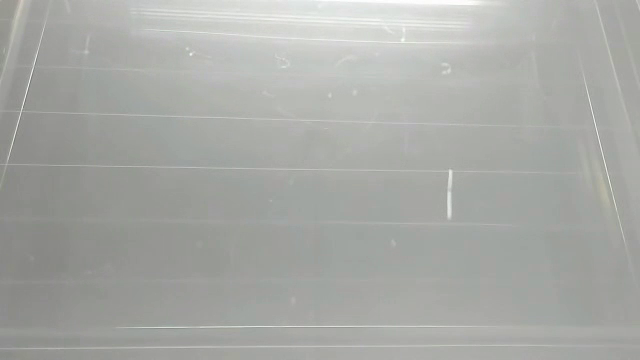alpha: (443, 165, 459, 223)
